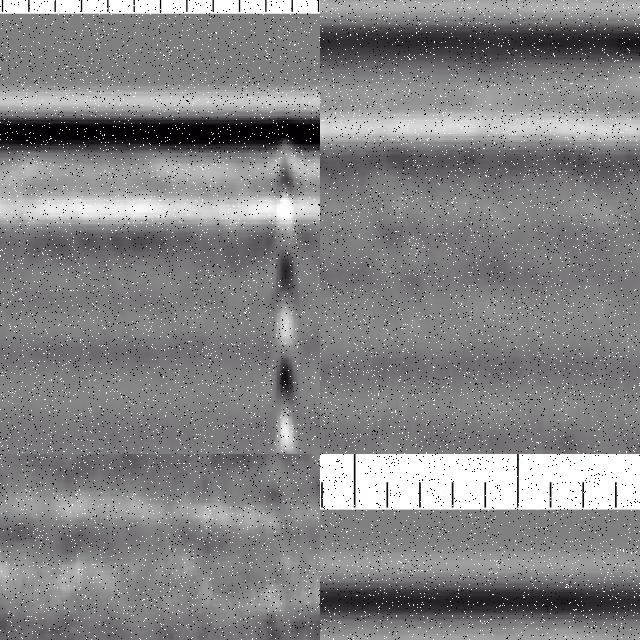crack: (270, 134, 297, 455)
